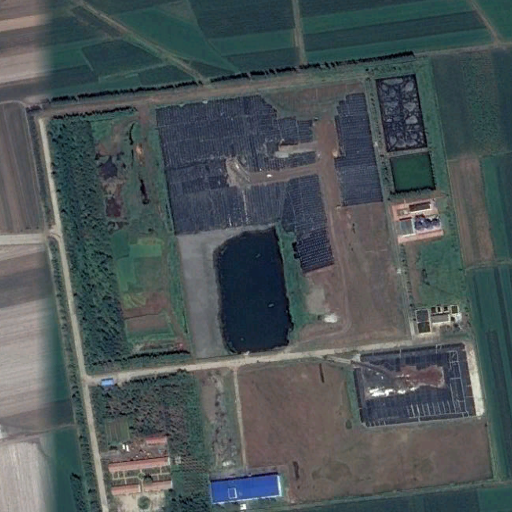lf: (154, 81, 385, 362), (351, 341, 478, 430)
